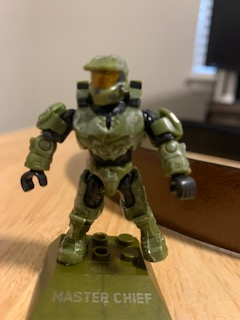chief: (22, 52, 198, 266)
spartan: (20, 50, 196, 264)
